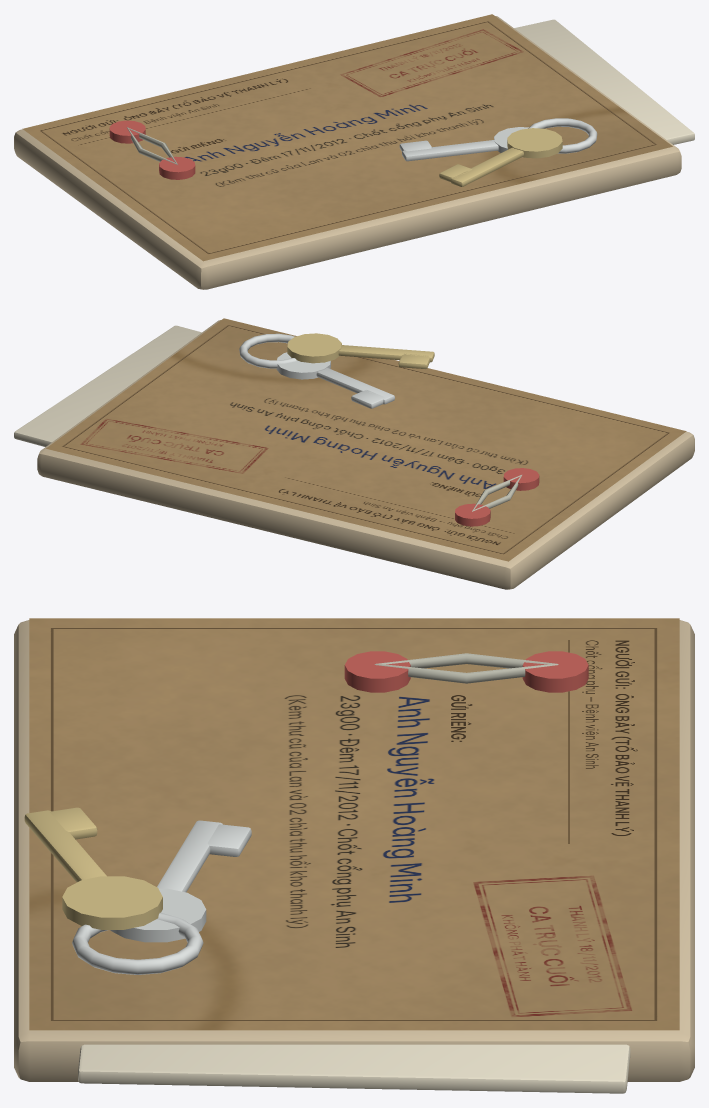
File: CTCC_PROP_BayEnvelope.fbx
3 views of the same model, one above another, from view 1: azimuth 30°, elevation 25°; view 2: azimuth 150°, elevation 25°; view 3: azimuth 270°, elevation 25° (orthographic). The views are drawn at different scales.
Visible parts, largest first — view 1: CTCC_PROP_BayEnvelope; view 2: CTCC_PROP_BayEnvelope; view 3: CTCC_PROP_BayEnvelope.
Part boxes in pixels (left/top/right/bottom): CTCC_PROP_BayEnvelope: left=14, top=14, right=694, bottom=289; CTCC_PROP_BayEnvelope: left=14, top=318, right=694, bottom=589; CTCC_PROP_BayEnvelope: left=14, top=618, right=694, bottom=1093.
Size of the model in its own units: 0.2815 by 0.0238 by 0.176.
